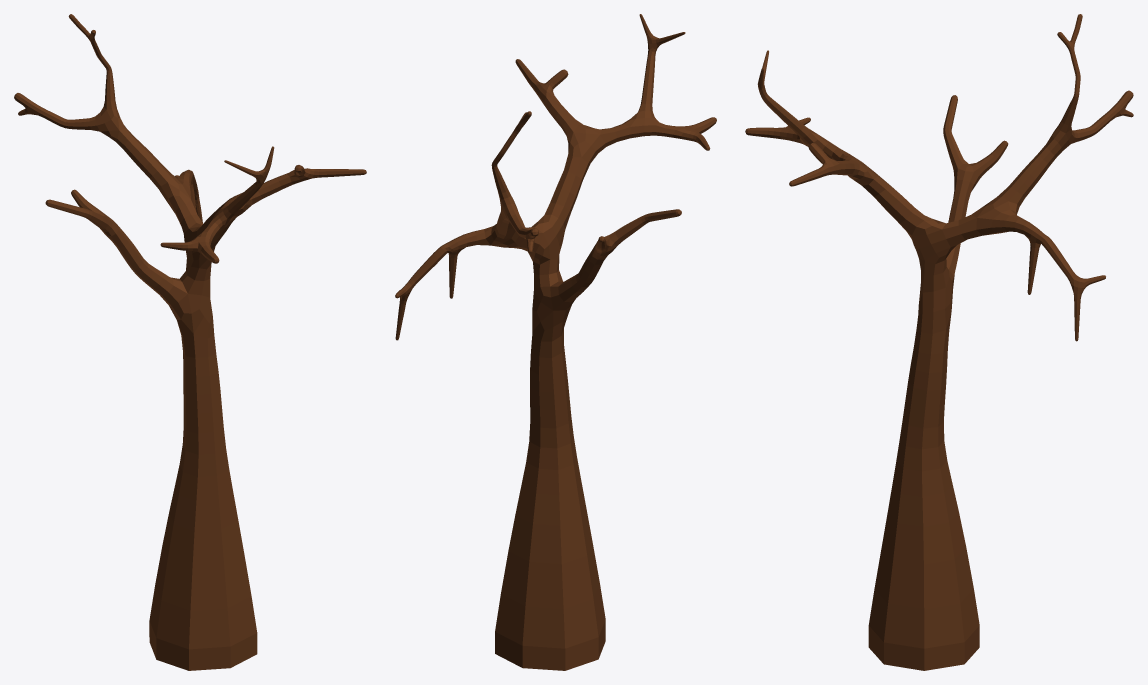
The model's file is arvore 3.fbx.
The picture shows the model from 3 angles, left to right: view 1: azimuth 30°, elevation 25°; view 2: azimuth 150°, elevation 25°; view 3: azimuth 270°, elevation 25°; orthographic projection. The views are drawn at different scales.
Visible parts, largest first — view 1: Cube; view 2: Cube; view 3: Cube.
Part boxes in pixels (box(x1,y1,x2,y2)): Cube: box(14, 14, 366, 670); Cube: box(395, 14, 716, 670); Cube: box(745, 14, 1133, 670).
Size of the model in its own units: 400 by 939 by 546.
